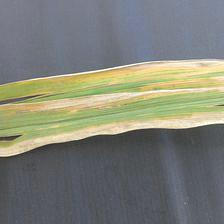2 BacterialBlight: (4, 74, 219, 126)
